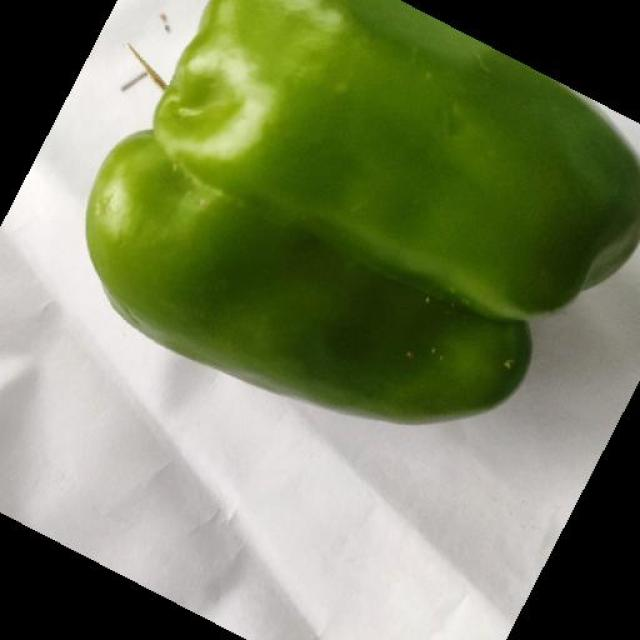Fresh_Capsicum: (100, 0, 623, 435)
